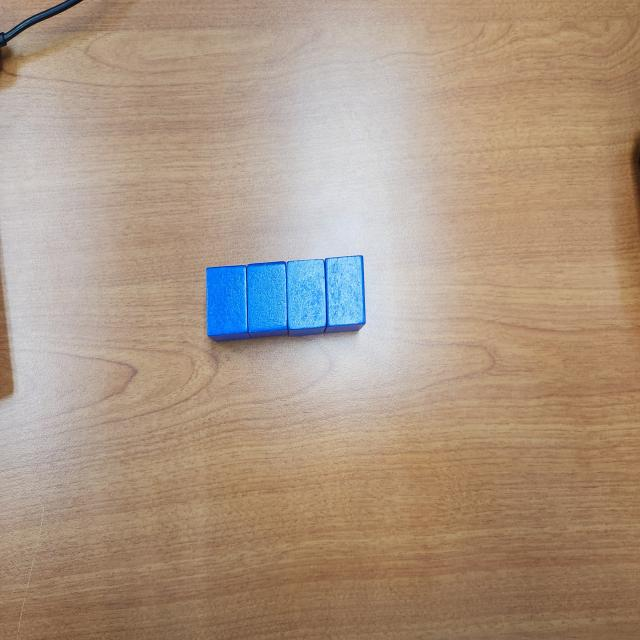blue: (246, 260, 289, 338), (323, 256, 366, 334), (286, 259, 328, 338), (206, 266, 248, 342)
